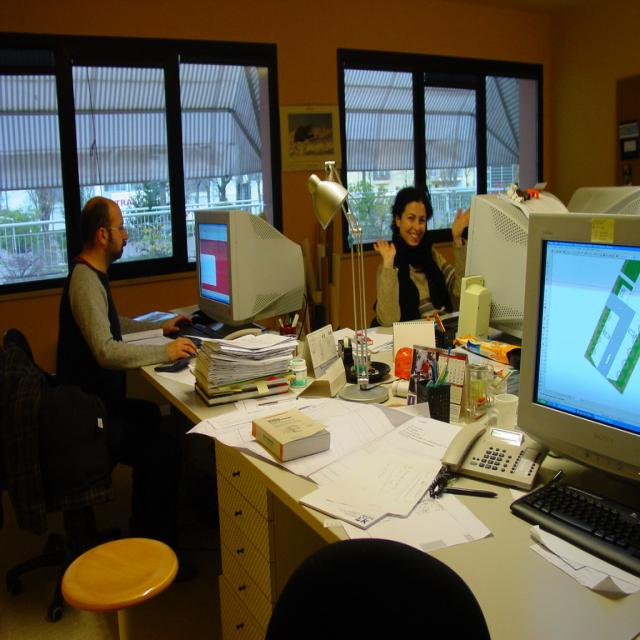chair: (2, 330, 126, 624), (265, 539, 490, 639), (60, 536, 179, 638)
desk: (142, 369, 640, 636)
keyboard: (509, 470, 640, 578)
person: (55, 196, 197, 546), (373, 186, 456, 326)
tv: (516, 214, 640, 484), (195, 208, 306, 325)
